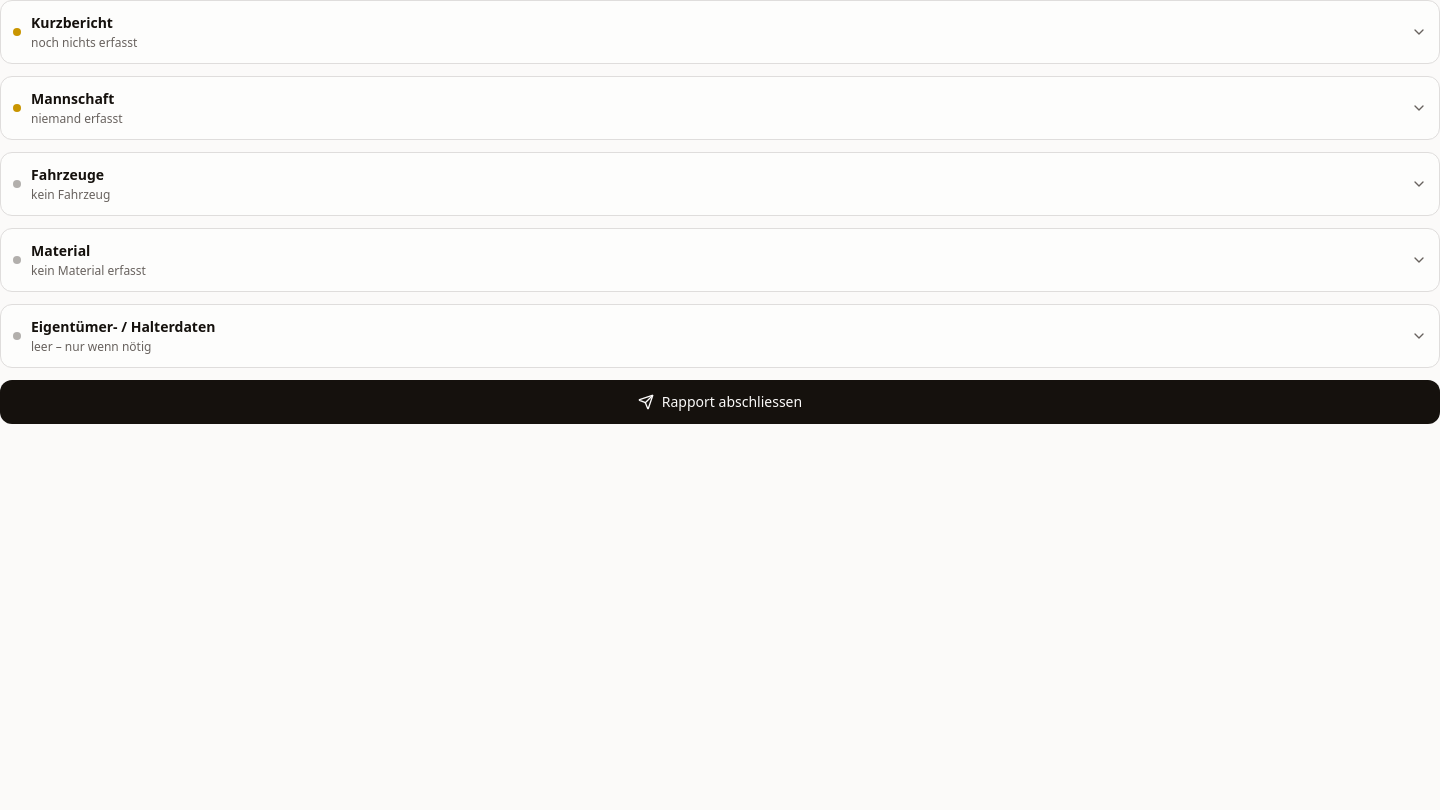
the Abschluss question (UX-PHONE-05) › names both when Kurzbericht and Mannschaft are empty
Click the button "Rapport abschliessen" at (720, 402), box [0,380,1439,424]
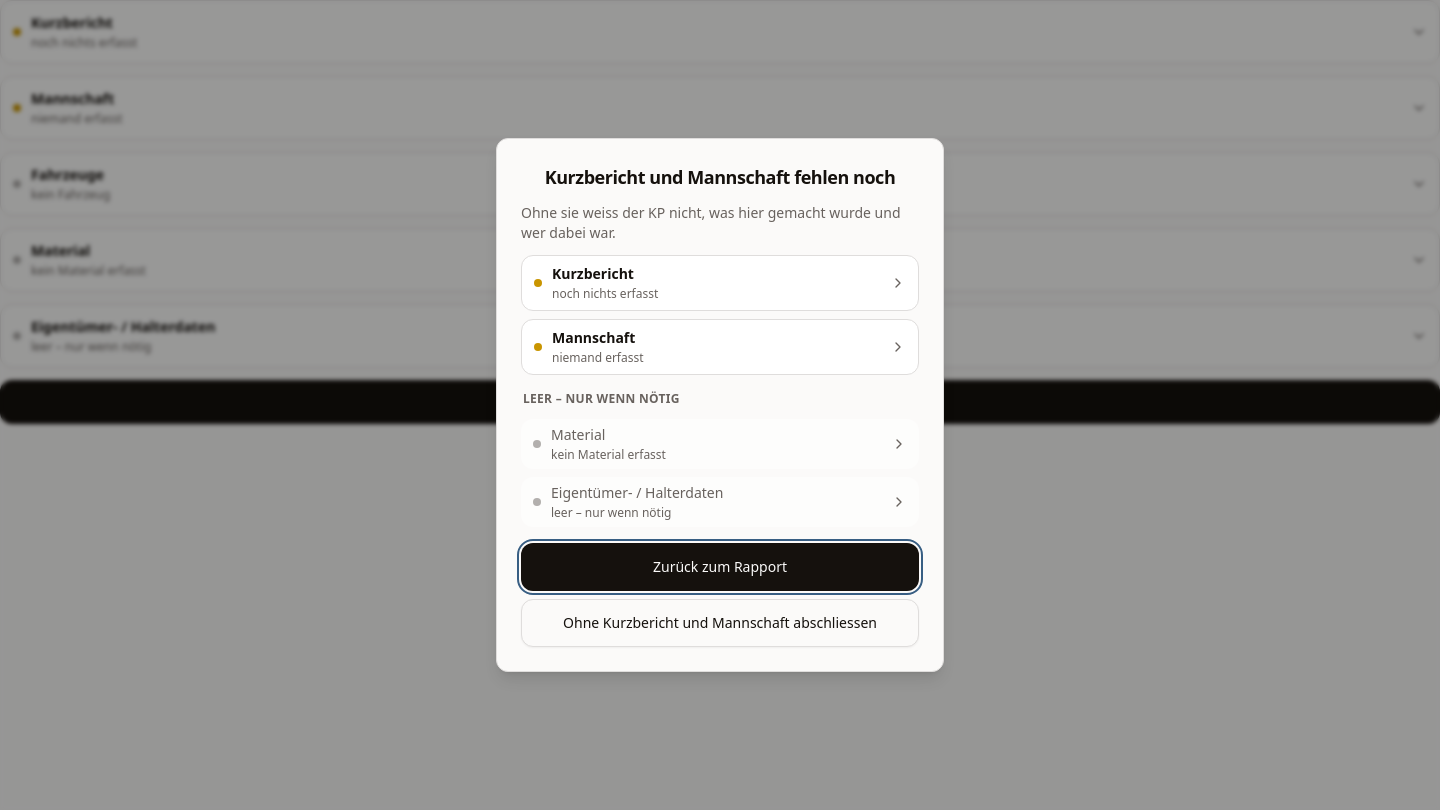
Expected: the heading "Kurzbericht und Mannschaft fehlen noch" is shown, [521,163,919,191]
Expected: the button "Ohne Kurzbericht und Mannschaft abschliessen" is shown, [521,599,919,647]
